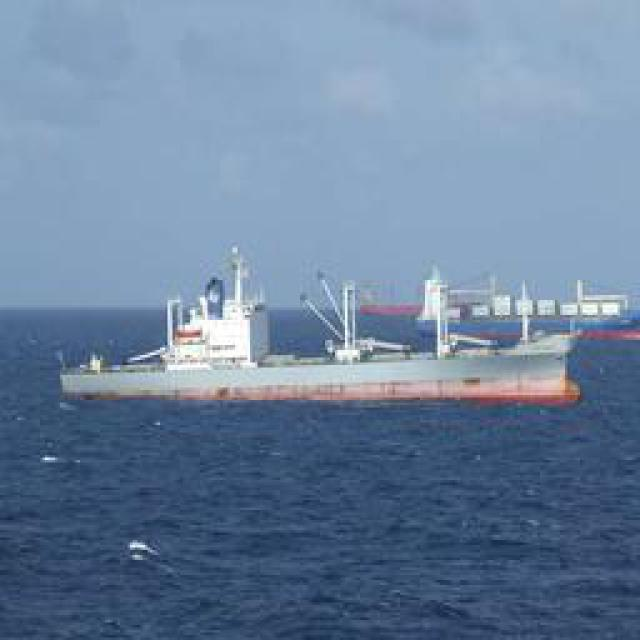Ship: (32, 331, 575, 409)
